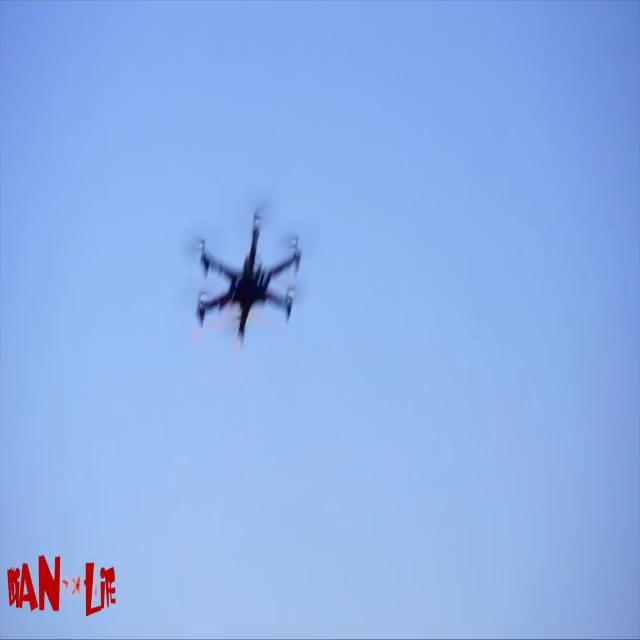drone: (188, 202, 308, 361)
